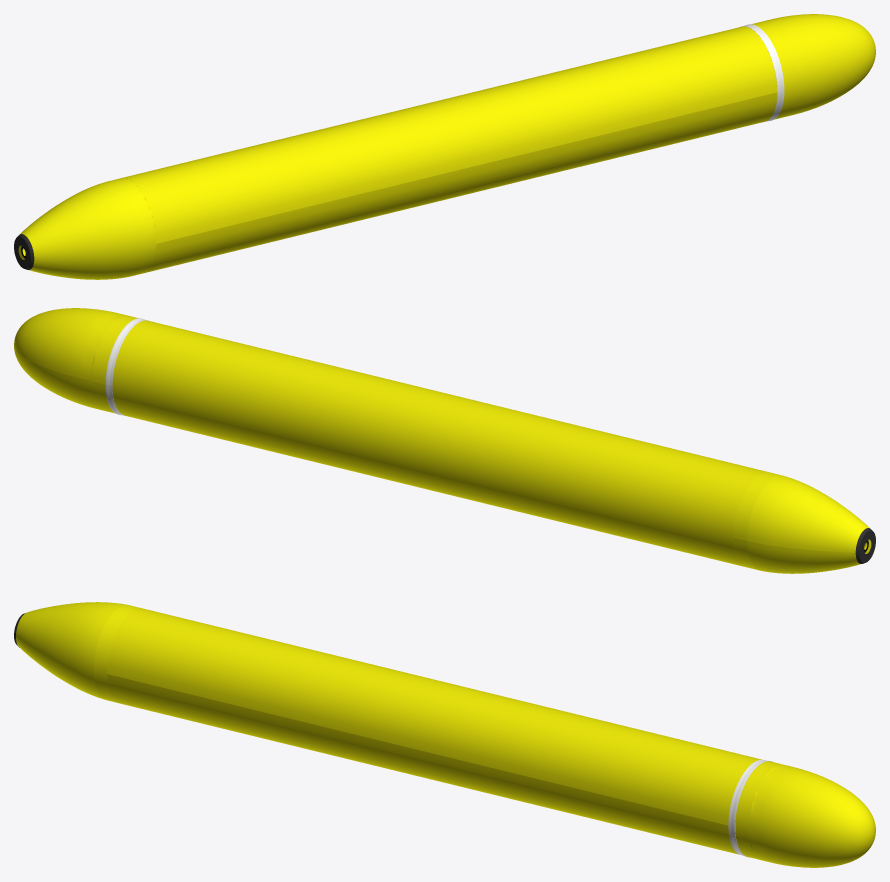
File: hugin_body.dae
3 views of the same model, one above another, from view 1: azimuth 30°, elevation 25°; view 2: azimuth 150°, elevation 25°; view 3: azimuth 330°, elevation 25° (orthographic).
Visible parts, largest first — view 1: a3fd4170-28bb-4d66-896b-5845f7cbf844_001, a9fcd437-bf71-44f8-981a-899169e5c42a, fbe2563c-3b6e-481d-9d8d-edb0125b937e, ac55eefb-2e9c-4f12-a961-e93537910065; view 2: a3fd4170-28bb-4d66-896b-5845f7cbf844_001, a9fcd437-bf71-44f8-981a-899169e5c42a, fbe2563c-3b6e-481d-9d8d-edb0125b937e, ac55eefb-2e9c-4f12-a961-e93537910065; view 3: a3fd4170-28bb-4d66-896b-5845f7cbf844_001, fbe2563c-3b6e-481d-9d8d-edb0125b937e, a9fcd437-bf71-44f8-981a-899169e5c42a, ac55eefb-2e9c-4f12-a961-e93537910065.
Part boxes in pixels (x1,y1,x2,y2): a3fd4170-28bb-4d66-896b-5845f7cbf844_001: (121, 26, 777, 272); a9fcd437-bf71-44f8-981a-899169e5c42a: (18, 178, 156, 279); fbe2563c-3b6e-481d-9d8d-edb0125b937e: (751, 14, 875, 119); ac55eefb-2e9c-4f12-a961-e93537910065: (741, 24, 784, 121); a3fd4170-28bb-4d66-896b-5845f7cbf844_001: (112, 320, 768, 566); a9fcd437-bf71-44f8-981a-899169e5c42a: (733, 472, 871, 573); fbe2563c-3b6e-481d-9d8d-edb0125b937e: (14, 308, 138, 413); ac55eefb-2e9c-4f12-a961-e93537910065: (105, 318, 148, 415); a3fd4170-28bb-4d66-896b-5845f7cbf844_001: (107, 608, 761, 854); fbe2563c-3b6e-481d-9d8d-edb0125b937e: (735, 761, 875, 867); a9fcd437-bf71-44f8-981a-899169e5c42a: (16, 602, 141, 702); ac55eefb-2e9c-4f12-a961-e93537910065: (728, 759, 772, 857).
Bounding box in the file's own units: 1.25 × 0.126 × 0.1259.
